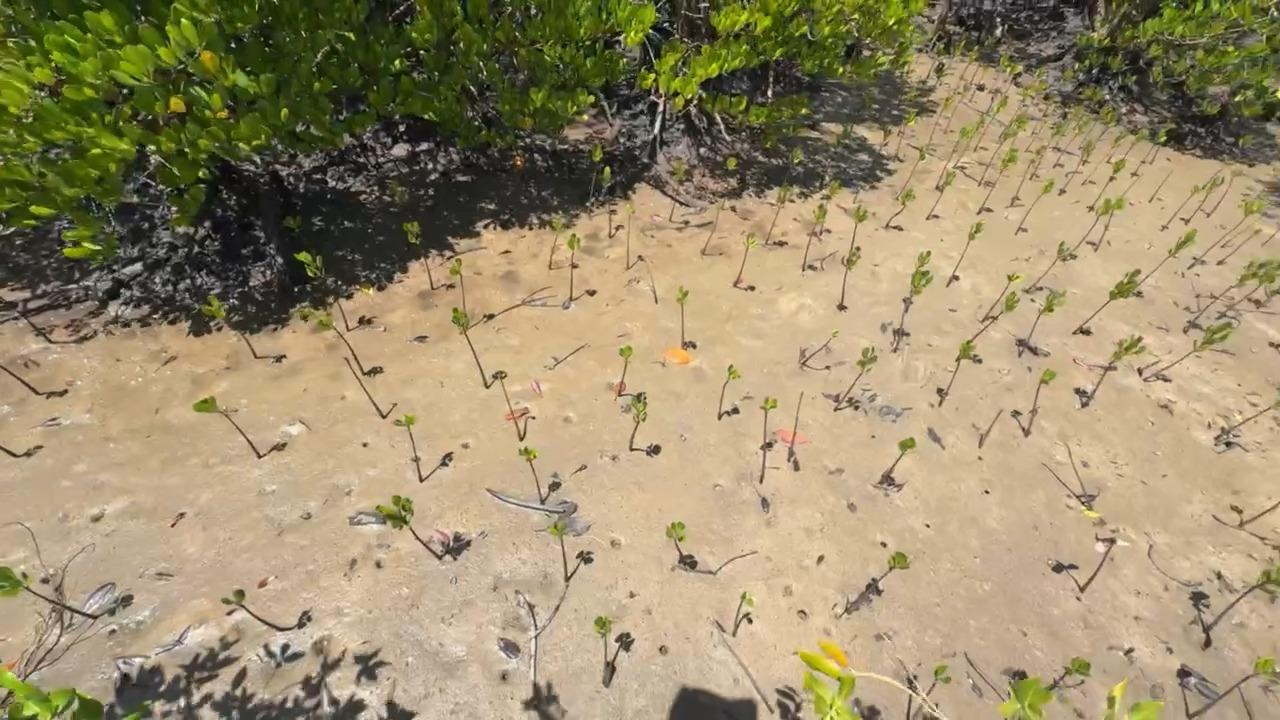Tree: (1183, 258, 1276, 334), (1188, 657, 1280, 720), (1142, 321, 1234, 382), (1187, 199, 1265, 270), (0, 566, 100, 619), (1203, 567, 1280, 634), (1080, 333, 1146, 410), (839, 551, 912, 617), (954, 291, 1021, 362), (1072, 268, 1142, 335), (294, 251, 351, 332), (191, 395, 262, 460), (375, 494, 443, 560), (300, 308, 366, 374), (1215, 258, 1280, 321), (201, 295, 258, 359), (1137, 229, 1198, 288), (892, 269, 934, 354), (1017, 290, 1066, 359), (1062, 197, 1112, 261), (833, 345, 878, 412), (451, 307, 488, 388), (221, 588, 285, 632), (977, 148, 1019, 215), (946, 219, 986, 288), (343, 356, 386, 419), (934, 125, 975, 191), (1214, 400, 1280, 440), (939, 341, 977, 408), (1023, 240, 1070, 292), (1078, 532, 1117, 593), (1024, 368, 1057, 439), (1015, 179, 1056, 236), (1009, 144, 1045, 208), (1063, 441, 1095, 511), (1029, 119, 1064, 182), (911, 665, 951, 720), (1058, 137, 1095, 196), (404, 220, 435, 290), (973, 95, 1010, 153), (997, 83, 1036, 138), (952, 111, 988, 169), (1082, 111, 1119, 167), (1207, 167, 1246, 219), (1184, 176, 1225, 225), (877, 436, 917, 486), (1160, 184, 1202, 231), (1089, 160, 1126, 213), (395, 414, 423, 483), (497, 371, 523, 442), (1220, 211, 1268, 249), (1131, 129, 1168, 178), (987, 63, 1023, 113), (1215, 228, 1263, 265), (802, 202, 827, 273), (895, 146, 927, 201), (931, 38, 966, 88), (905, 250, 932, 314), (764, 183, 791, 246), (759, 396, 778, 484), (1026, 105, 1059, 152), (1094, 199, 1123, 252), (518, 446, 544, 505), (926, 169, 956, 220), (1030, 90, 1062, 137), (546, 519, 569, 583), (839, 245, 862, 309), (1049, 656, 1092, 690), (1078, 105, 1111, 149), (928, 93, 955, 146), (853, 146, 877, 205), (1054, 104, 1084, 151), (800, 329, 839, 365), (717, 364, 742, 420), (733, 232, 758, 288), (701, 199, 726, 255), (969, 34, 996, 84), (586, 142, 603, 221), (0, 364, 43, 395), (885, 188, 916, 229), (1074, 88, 1104, 130), (892, 112, 917, 162), (1237, 500, 1280, 529), (819, 180, 841, 236), (16, 310, 54, 342), (787, 391, 804, 462), (628, 392, 648, 452), (943, 90, 969, 135), (636, 255, 659, 304), (923, 43, 949, 86), (597, 165, 612, 239), (732, 591, 756, 637), (669, 159, 686, 222), (978, 409, 1004, 450), (987, 53, 1012, 94), (449, 258, 467, 313), (850, 94, 874, 134), (567, 233, 581, 301), (595, 616, 613, 668), (1122, 127, 1149, 160), (1024, 80, 1049, 115), (1149, 169, 1174, 204), (850, 204, 868, 251), (677, 284, 690, 349), (666, 521, 687, 561), (872, 127, 892, 169), (1023, 65, 1050, 96), (782, 145, 802, 186), (549, 216, 564, 270), (959, 45, 981, 81), (618, 345, 633, 397), (969, 64, 988, 103), (625, 202, 635, 271), (1256, 285, 1280, 310), (895, 86, 921, 109), (1120, 172, 1143, 196), (1200, 167, 1223, 190), (1261, 228, 1280, 246), (1163, 118, 1177, 142), (1150, 143, 1162, 166), (0, 445, 21, 451)
